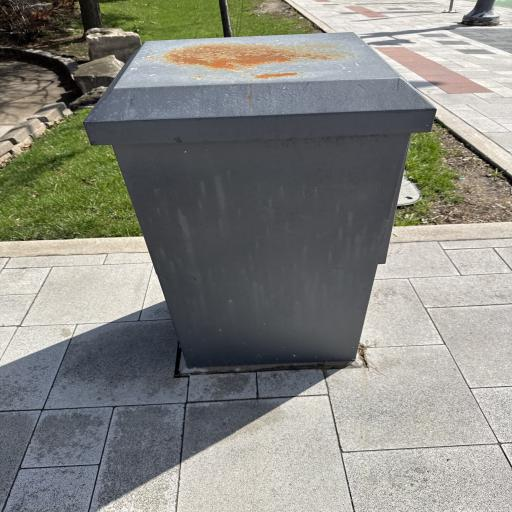Electrical Box: (87, 33, 437, 368)
